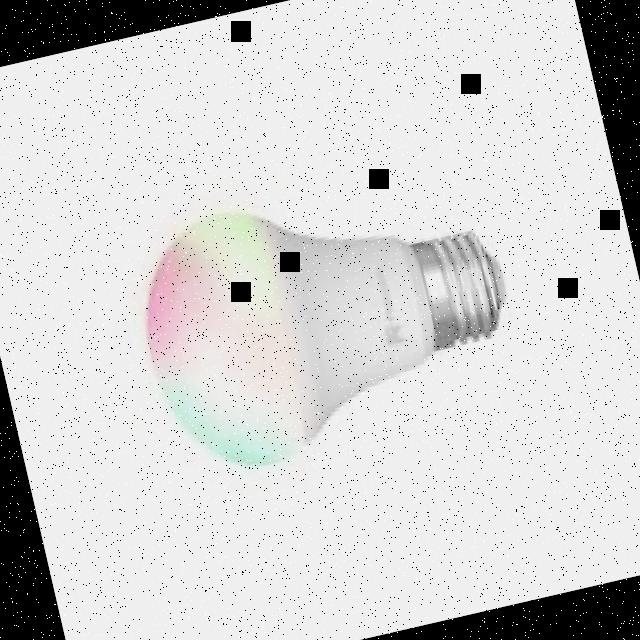light_bulb: (100, 120, 560, 516)
